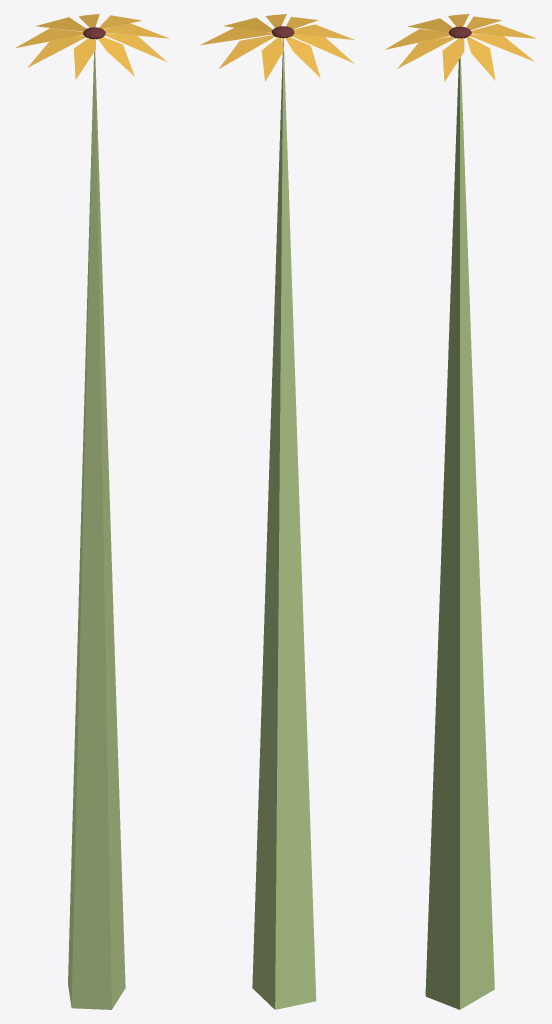
Rendered from flower.glb.
3 renders of one model, left to right at view 1: azimuth 30°, elevation 25°; view 2: azimuth 150°, elevation 25°; view 3: azimuth 270°, elevation 25°, orthographic.
Visible parts, largest first — view 1: Cone, Plane.008, Plane.007, Plane.001, Plane.002, Plane, Plane.003, Plane.006; view 2: Cone, Plane.006, Plane.004, Plane.005, Plane.007, Plane.008, Plane.001; view 3: Cone, Plane.003, Plane.002, Plane.004, Plane, Plane.005, Plane.006.
Part boxes in pixels (bbox=[...]): Cone: bbox=[68, 51, 125, 1009]; Plane.008: bbox=[27, 35, 85, 67]; Plane.007: bbox=[15, 28, 83, 48]; Plane.001: bbox=[74, 38, 95, 79]; Plane.002: bbox=[105, 33, 167, 62]; Plane: bbox=[98, 37, 134, 76]; Plane.003: bbox=[104, 23, 169, 38]; Plane.006: bbox=[35, 17, 86, 31]; Cone: bbox=[252, 38, 316, 1009]; Plane.006: bbox=[261, 37, 283, 81]; Plane.004: bbox=[200, 27, 272, 45]; Plane.005: bbox=[219, 35, 274, 68]; Plane.007: bbox=[285, 36, 320, 77]; Plane.008: bbox=[292, 34, 353, 63]; Plane.001: bbox=[293, 24, 354, 39]; Cone: bbox=[425, 57, 494, 1009]; Plane.003: bbox=[442, 38, 464, 81]; Plane.002: bbox=[397, 36, 455, 68]; Plane.004: bbox=[466, 36, 495, 80]; Plane: bbox=[385, 29, 450, 49]; Plane.005: bbox=[470, 34, 534, 61]; Plane.006: bbox=[471, 24, 536, 38].
Bounding box in the file's own units: 0.0895 × 0.601 × 0.0864.
